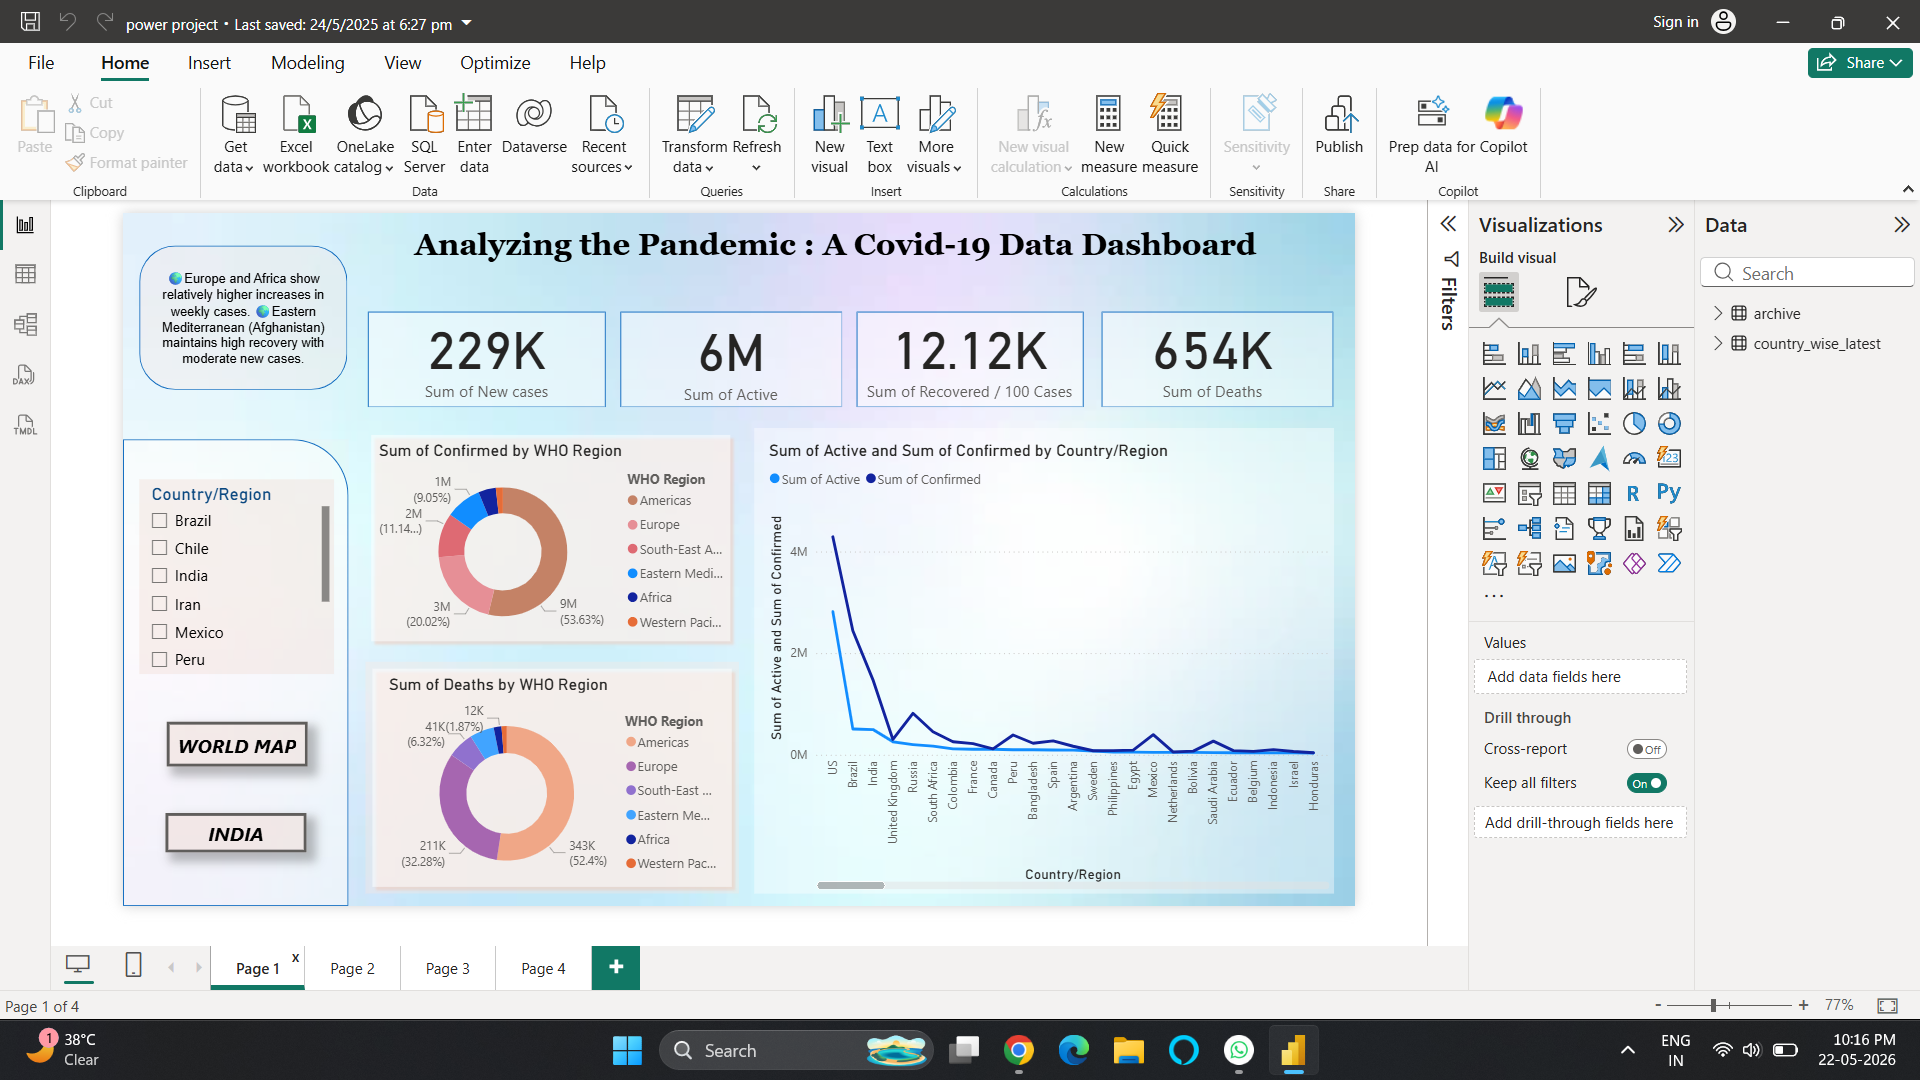

The page's visual inventory and layout, read from the dashboard file:
{"tool":"powerbi","page":{"name":"Page 1","canvas":[1280,720],"ordinal":0},"visuals":[{"type":"textbox","box":[0,9.6,1279.5,49.3],"z":0},{"type":"shape","box":[0,235.6,234.2,484.9],"z":1000},{"type":"shape","box":[656.2,223.8,602.5,483.8],"z":2000},{"type":"shape","box":[251.2,223.8,387.5,228.8],"z":3000},{"type":"shape","box":[1013.8,100,245,103.8],"z":4000},{"type":"card","fields":{"Values":["Sum(country_wise_latest.Deaths)"]},"box":[1005,95,253.8,103.8],"z":5000},{"type":"shape","box":[252.1,465.8,387.7,241.1],"z":6000},{"type":"donutChart","fields":{"Y":["Sum(country_wise_latest.Confirmed)"],"Category":["country_wise_latest.WHO Region"]},"box":[261.2,236.2,378.8,212.5],"z":7000},{"type":"shape","box":[252.5,100,251.2,103.8],"z":8000},{"type":"shape","box":[760,100,240,103.8],"z":9000},{"type":"shape","box":[513.8,100,235,103.8],"z":10000},{"type":"card","fields":{"Values":["Sum(country_wise_latest.Recovered / 100 Cases)"]},"box":[760,95,240,103.8],"z":11000},{"type":"card","fields":{"Values":["Sum(country_wise_latest.Active)"]},"box":[513.8,95,235,108.8],"z":12000},{"type":"card","fields":{"Values":["Sum(country_wise_latest.New cases)"]},"box":[252.1,95.3,252.1,103.8],"z":13000},{"type":"donutChart","fields":{"Category":["country_wise_latest.WHO Region"],"Y":["Sum(country_wise_latest.Deaths)"]},"box":[271.2,478.8,360,228.8],"z":14000},{"type":"lineChart","fields":{"Category":["country_wise_latest.Country/Region"],"Y":["Sum(country_wise_latest.Active)","Sum(country_wise_latest.Confirmed)"]},"box":[666.2,236.2,592.5,471.2],"z":15000},{"type":"actionButton","box":[43.8,623.3,146.6,41.1],"z":16000},{"type":"actionButton","box":[45.2,528.8,146.6,46.6],"z":17000},{"type":"slicer","fields":{"Values":["country_wise_latest.Country/Region"]},"box":[17.3,276.5,202.5,202.5],"z":18000},{"type":"shape","box":[17.5,33.8,216.2,150],"z":19000}]}

Visuals, with their boxes on the page's 1280x720 design canvas (x1, y1, x2, y2). These are canvas units, not pixel positions in the 1920x1080 screenshot, which may show the page scaled, cropped or inside an application window:
textbox: (0,10,1280,59)
shape: (0,236,234,720)
shape: (656,224,1259,708)
shape: (251,224,639,453)
shape: (1014,100,1259,204)
card - Sum(country_wise_latest.Deaths): (1005,95,1259,199)
shape: (252,466,640,707)
donutChart - Sum(country_wise_latest.Confirmed) x country_wise_latest.WHO Region: (261,236,640,449)
shape: (252,100,504,204)
shape: (760,100,1000,204)
shape: (514,100,749,204)
card - Sum(country_wise_latest.Recovered / 100 Cases): (760,95,1000,199)
card - Sum(country_wise_latest.Active): (514,95,749,204)
card - Sum(country_wise_latest.New cases): (252,95,504,199)
donutChart - country_wise_latest.WHO Region x Sum(country_wise_latest.Deaths): (271,479,631,708)
lineChart - country_wise_latest.Country/Region x Sum(country_wise_latest.Active): (666,236,1259,707)
actionButton: (44,623,190,664)
actionButton: (45,529,192,575)
slicer - country_wise_latest.Country/Region: (17,276,220,479)
shape: (18,34,234,184)
